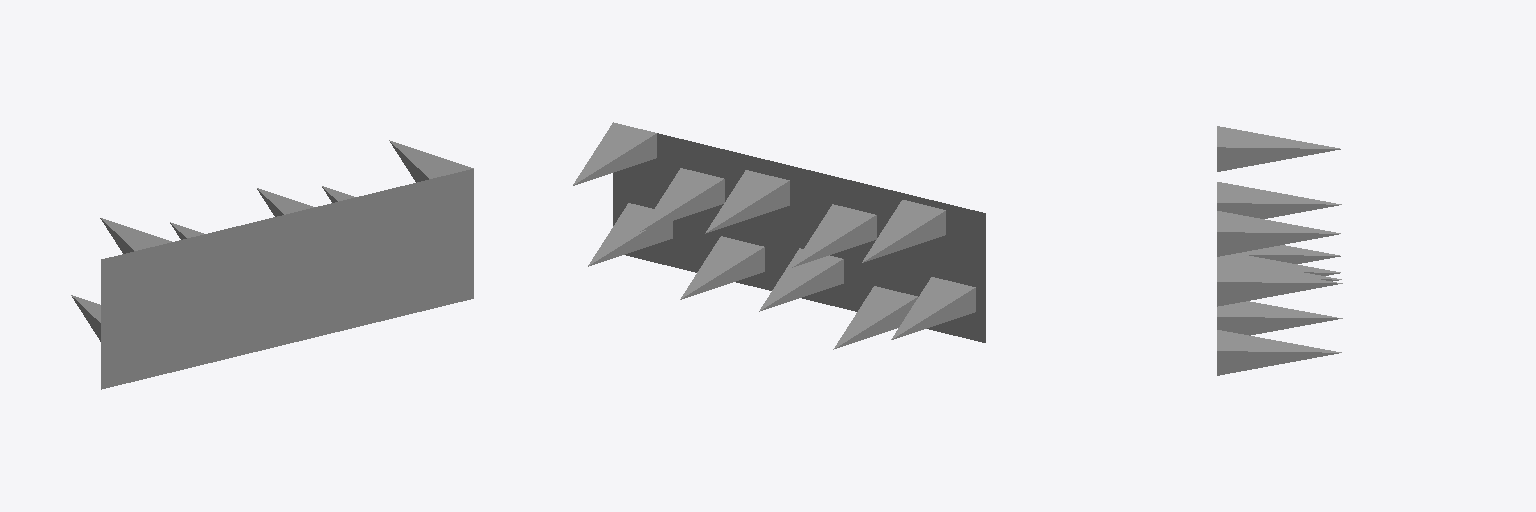
The model's file is spikes2.obj.
The picture shows the model from 3 angles: view 1: azimuth 30°, elevation 25°; view 2: azimuth 150°, elevation 25°; view 3: azimuth 270°, elevation 25°; orthographic projection.
Parts seen in each view (by area): view 1: skpE45D_001; view 2: skpE45D_001; view 3: skpE45D_001.
Part boxes in pixels (left/top/right/bottom): skpE45D_001: left=71, top=140, right=473, bottom=389; skpE45D_001: left=573, top=122, right=985, bottom=349; skpE45D_001: left=1217, top=126, right=1342, bottom=375.
Size of the model in its own units: 2.51 by 0.8359 by 0.7351.